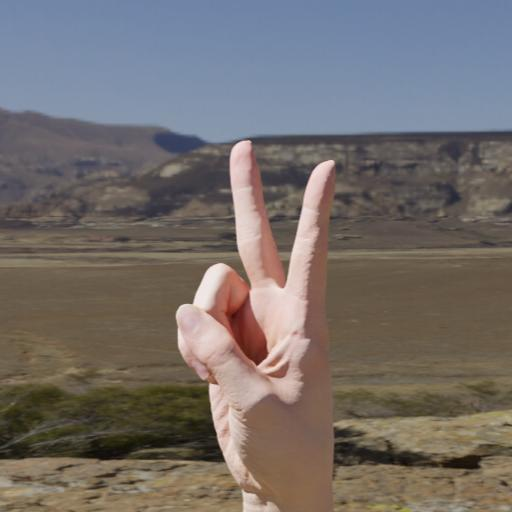V: (137, 113, 386, 482)
